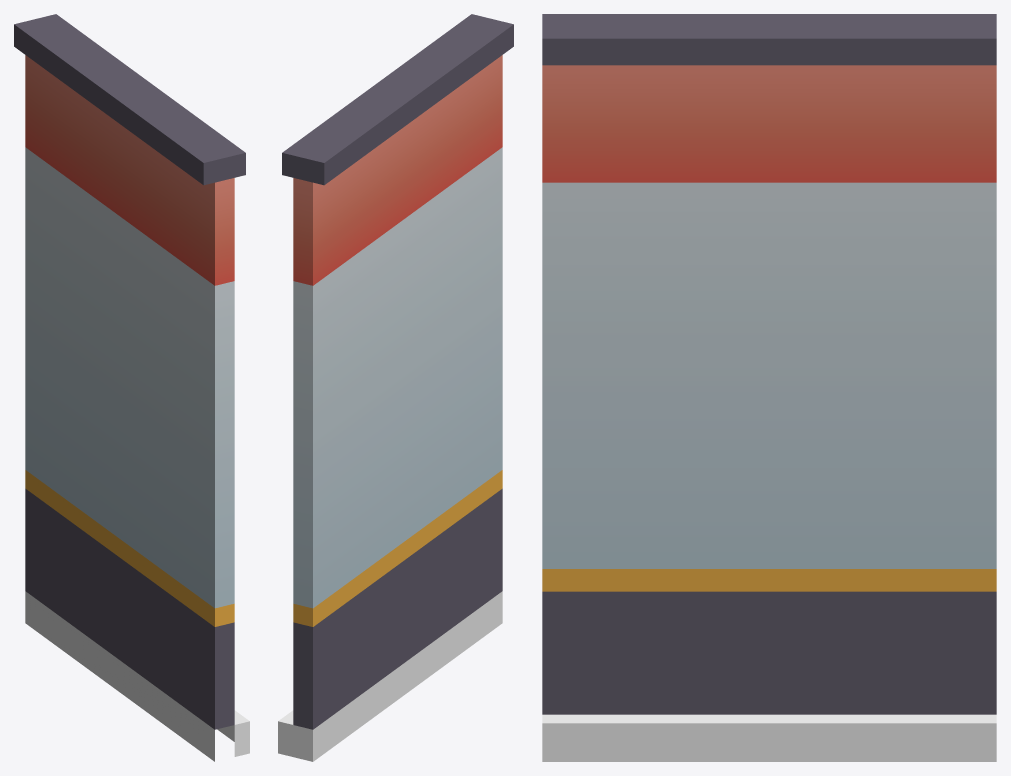
File: 3Wall_Straight.fbx
3 renders of one model, left to right at view 1: azimuth 30°, elevation 25°; view 2: azimuth 150°, elevation 25°; view 3: azimuth 270°, elevation 25°, orthographic. The views are drawn at different scales.
Visible parts, largest first — view 1: 3Wall_Straight; view 2: 3Wall_Straight; view 3: 3Wall_Straight.
Part boxes in pixels (box(x1,y1,x2,y2)): 3Wall_Straight: box(14, 14, 249, 761); 3Wall_Straight: box(278, 14, 513, 761); 3Wall_Straight: box(542, 14, 996, 761).
Bounding box in the file's own units: 28.14 × 350 × 200.
